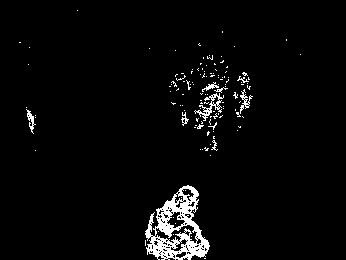person: (143, 181, 210, 260), (193, 75, 227, 153)
